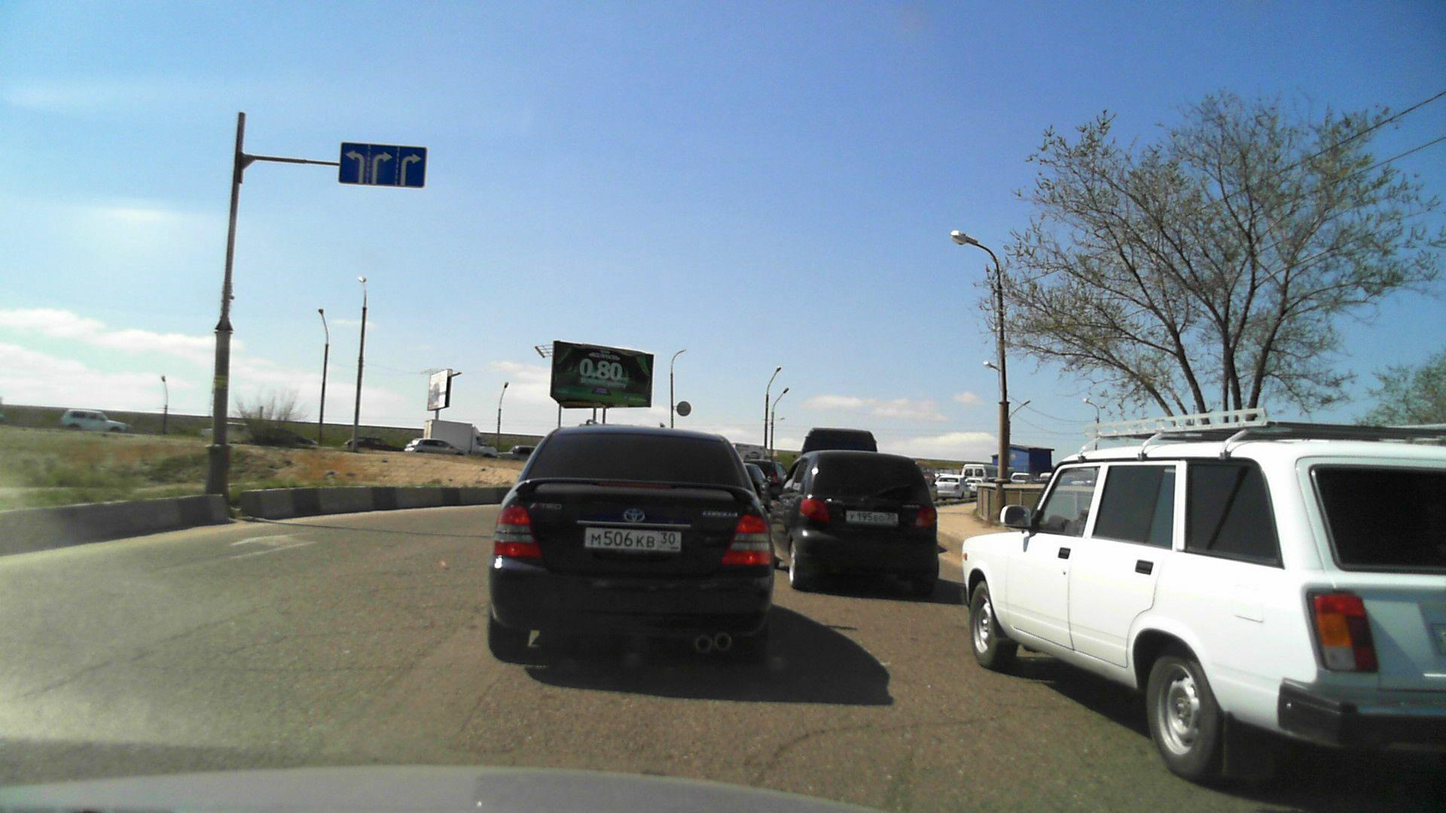road_sign: (338, 142, 426, 188)
